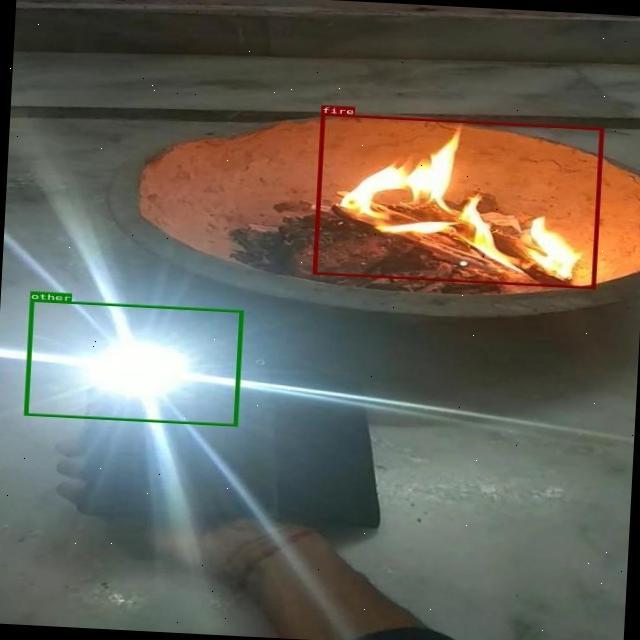fire: (312, 112, 604, 288)
